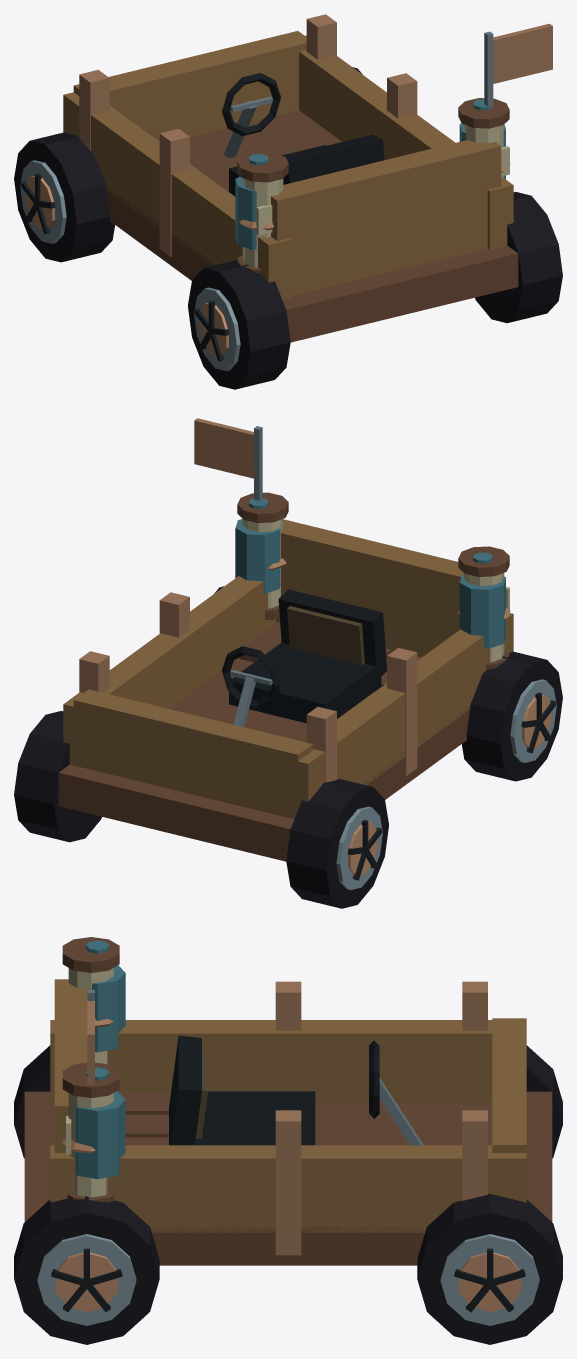
File: kart.glb
3 views of the same model, one above another, from view 1: azimuth 30°, elevation 25°; view 2: azimuth 150°, elevation 25°; view 3: azimuth 270°, elevation 25° (orthographic). The views are drawn at different scales.
Parts seen in each view (by area): view 1: identity-wagon-wagon-timber-coach, wheel-rear-left, wheel-front-left, wheel-rear-right, identity-wagon-driver-cockpit, identity-wagon-motif-scrolls, identity-wagon-motif-flag, identity-wagon-motif-bottles; view 2: identity-wagon-wagon-timber-coach, identity-wagon-driver-cockpit, wheel-front-left, wheel-rear-left, wheel-front-right, identity-wagon-motif-bottles, identity-wagon-motif-scrolls, identity-wagon-motif-flag; view 3: identity-wagon-wagon-timber-coach, wheel-front-right, wheel-rear-right, identity-wagon-driver-cockpit, identity-wagon-motif-bottles, identity-wagon-motif-scrolls, wheel-front-left, wheel-rear-left, identity-wagon-motif-flag.
Boxes of the visible parts, x1,y1,x2,y2 form: identity-wagon-wagon-timber-coach: (63, 14, 518, 342); wheel-rear-left: (188, 260, 290, 389); wheel-front-left: (14, 132, 114, 262); wheel-rear-right: (475, 192, 562, 323); identity-wagon-driver-cockpit: (222, 73, 384, 195); identity-wagon-motif-scrolls: (237, 98, 510, 273); identity-wagon-motif-flag: (484, 23, 552, 108); identity-wagon-motif-bottles: (235, 99, 509, 249); identity-wagon-wagon-timber-coach: (58, 519, 513, 861); identity-wagon-driver-cockpit: (222, 589, 386, 726); wheel-front-left: (286, 779, 388, 908); wheel-rear-left: (462, 651, 562, 781); wheel-front-right: (14, 711, 101, 842); identity-wagon-motif-bottles: (235, 498, 509, 648); identity-wagon-motif-scrolls: (237, 492, 510, 669); identity-wagon-motif-flag: (194, 418, 262, 500); identity-wagon-wagon-timber-coach: (24, 979, 552, 1265); wheel-front-right: (417, 1194, 562, 1344); wheel-rear-right: (14, 1196, 159, 1344); identity-wagon-driver-cockpit: (169, 1035, 423, 1145); identity-wagon-motif-bottles: (66, 940, 125, 1179); identity-wagon-motif-scrolls: (61, 937, 119, 1202); wheel-front-left: (526, 1045, 562, 1158); wheel-rear-left: (14, 1045, 50, 1158); identity-wagon-motif-flag: (87, 990, 94, 1084).
Bounding box in the file's own units: 2.14 × 1.7 × 2.56.
